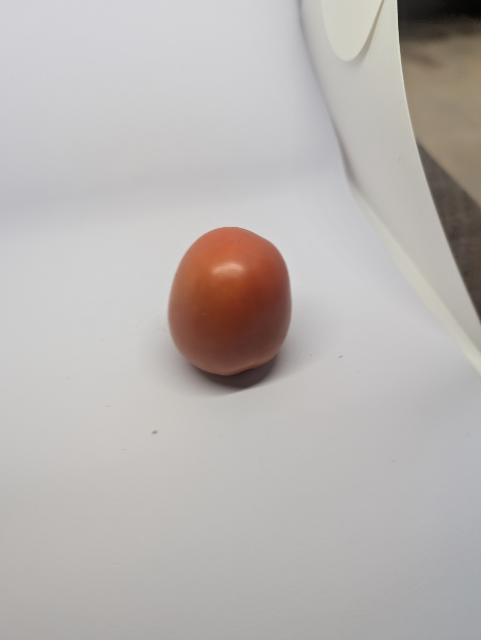red: (157, 215, 315, 389)
